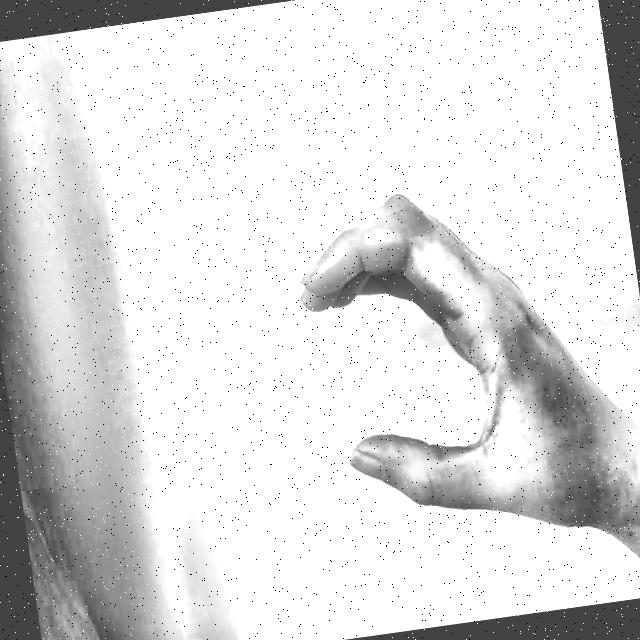A: (261, 151, 603, 588)
